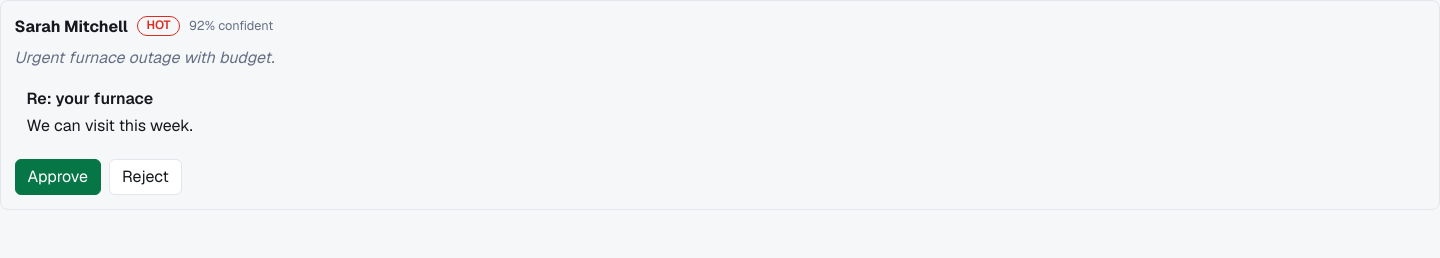
Test: Inbox › surfaces a failed decision instead of hiding it
Click the button "Approve".
click(58, 177)  # box [15, 158, 101, 195]
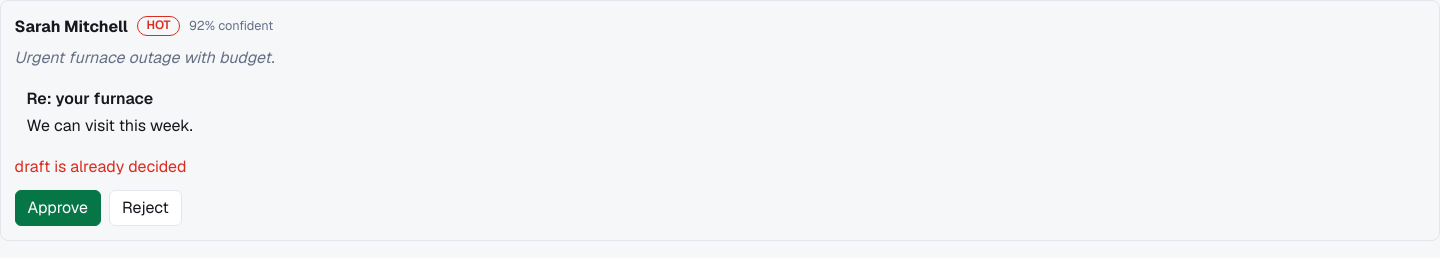
Check: the text "draft is already decided" is shown, box [15, 156, 186, 176]
